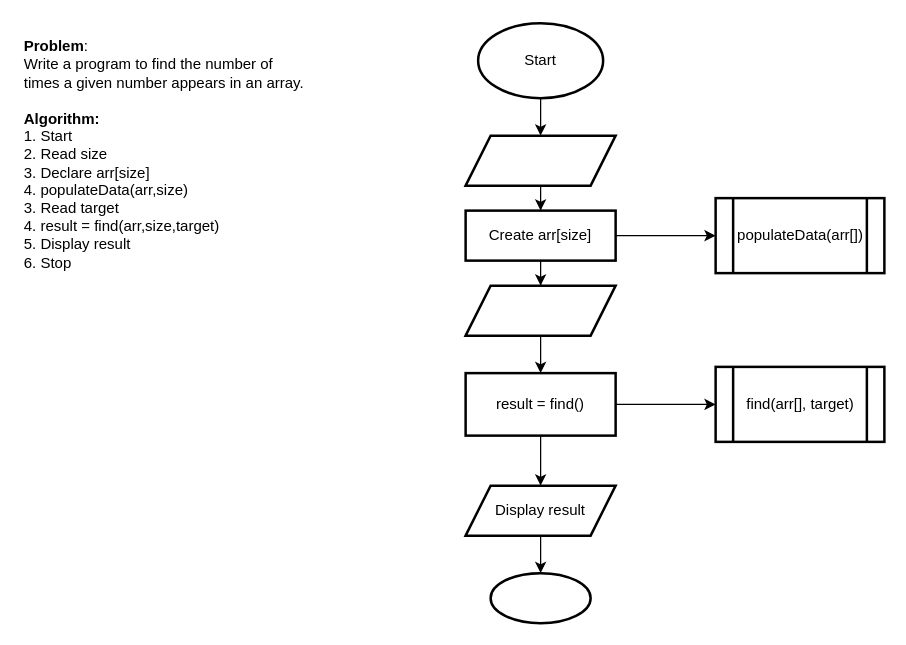
Image size: 906x645. Some labels were removed from this diagram. The centre of each missing label's shape, as x and y in pixels:
"Read size" belongs at point (540, 160).
"Read target" belongs at point (540, 310).
"Stop" belongs at point (540, 597).
